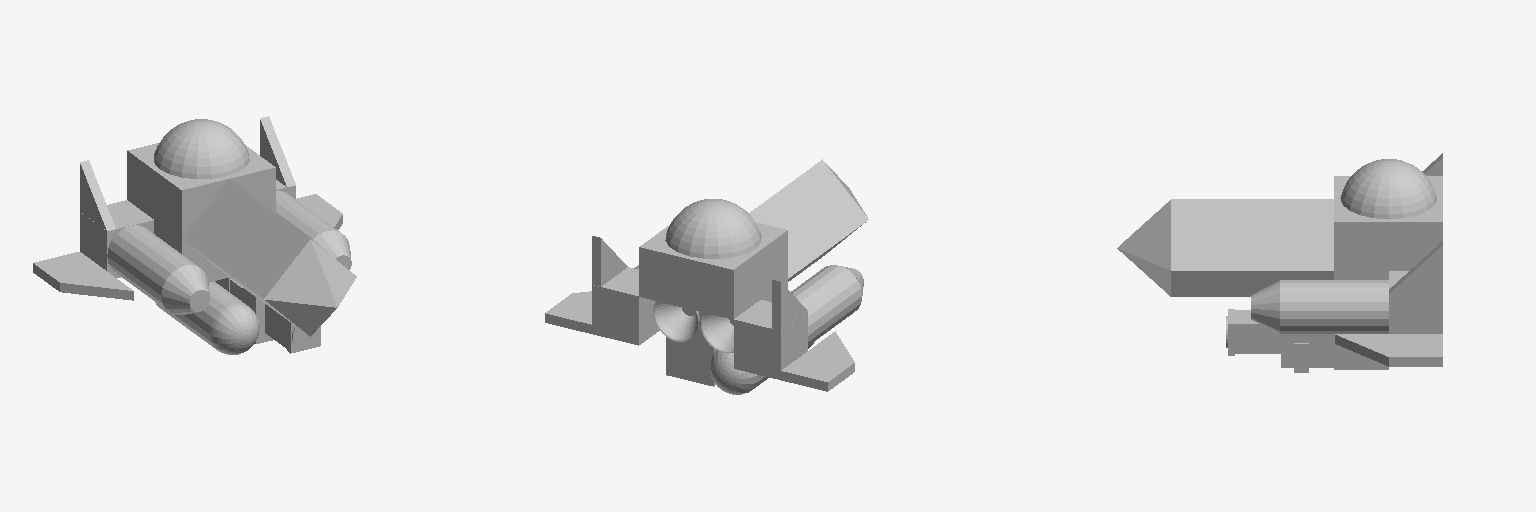
Rendered from Ship_Shrunk.obj.
3 renders of one model, left to right at view 1: azimuth 30°, elevation 25°; view 2: azimuth 150°, elevation 25°; view 3: azimuth 270°, elevation 25°, orthographic.
Parts seen in each view (by area): view 1: polySurface1; view 2: polySurface1; view 3: polySurface1.
Boxes of the visible parts, box(x1,y1,x2,y2) form: polySurface1: box(33, 116, 356, 354); polySurface1: box(545, 159, 868, 394); polySurface1: box(1117, 153, 1442, 372).
Size of the model in its own units: 1.49 by 0.9333 by 1.49.